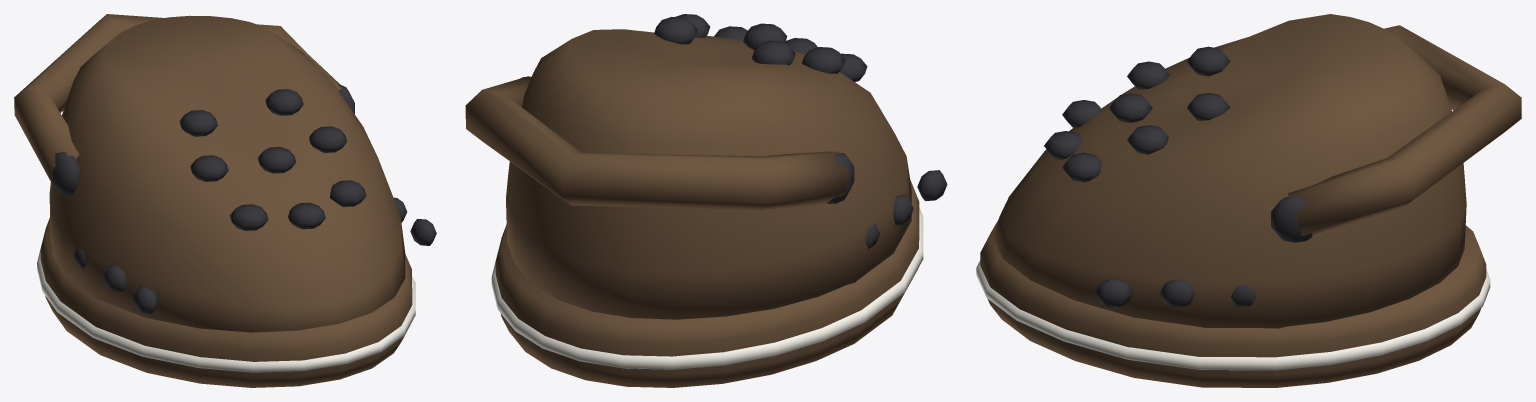
File: calzado_zuecos.glb
3 views of the same model, side by side, from view 1: azimuth 30°, elevation 25°; view 2: azimuth 150°, elevation 25°; view 3: azimuth 270°, elevation 25° (orthographic). The views are drawn at different scales.
Visible parts, largest first — view 1: pieza; view 2: pieza; view 3: pieza.
Boxes of the visible parts, <box> form: pieza: <box>14,14,436,387</box>; pieza: <box>465,14,947,387</box>; pieza: <box>976,14,1521,387</box>.
Bounding box in the file's own units: 0.3005 × 0.216 × 0.4201.
